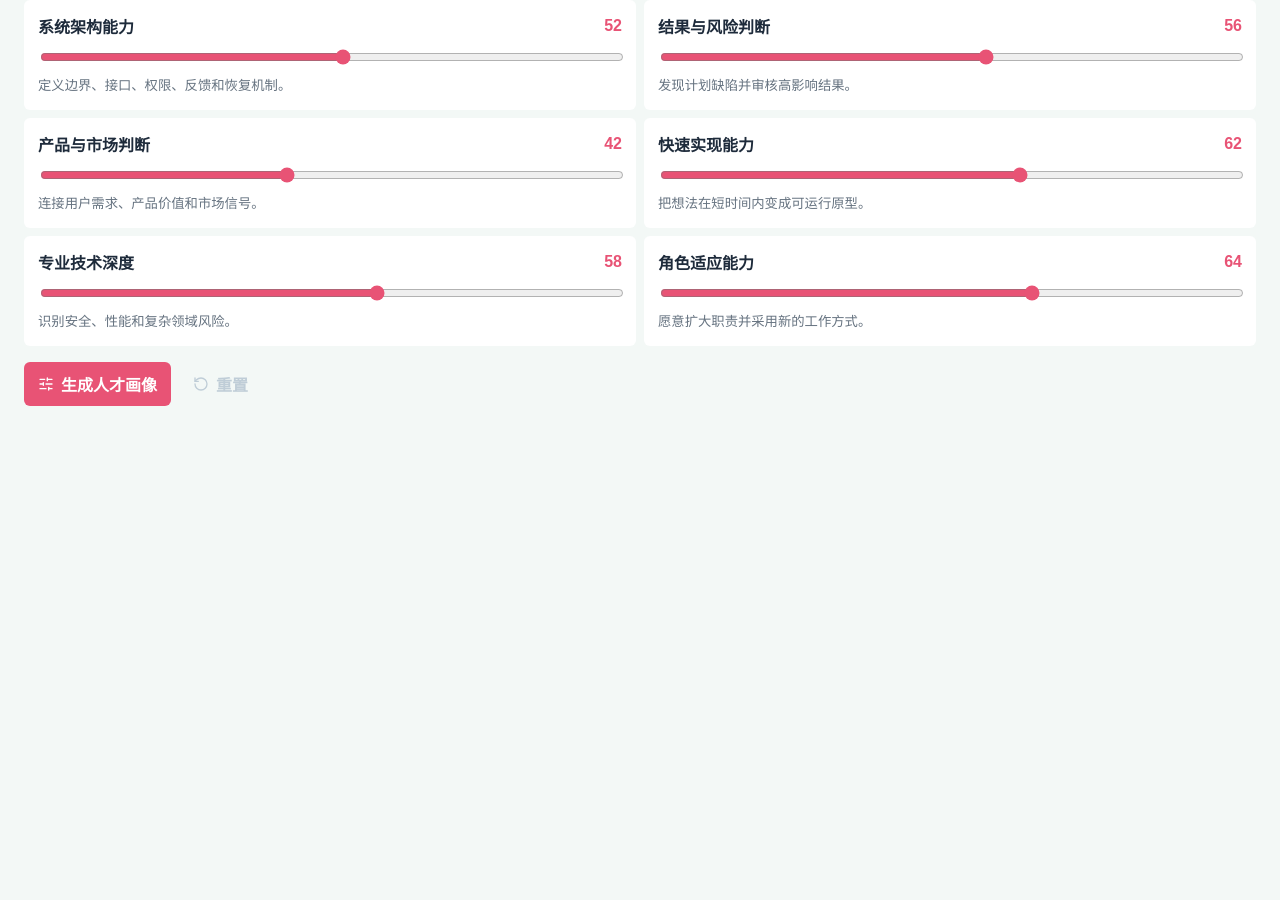
Scenario: TalentMixer › builds a cross-functional architect profile without dismissing senior expertise
The width and height of the screenshot is (1280, 900).
Set the slider named "系统架构能力" to "88" at (548, 57), box [40,49,624,65]
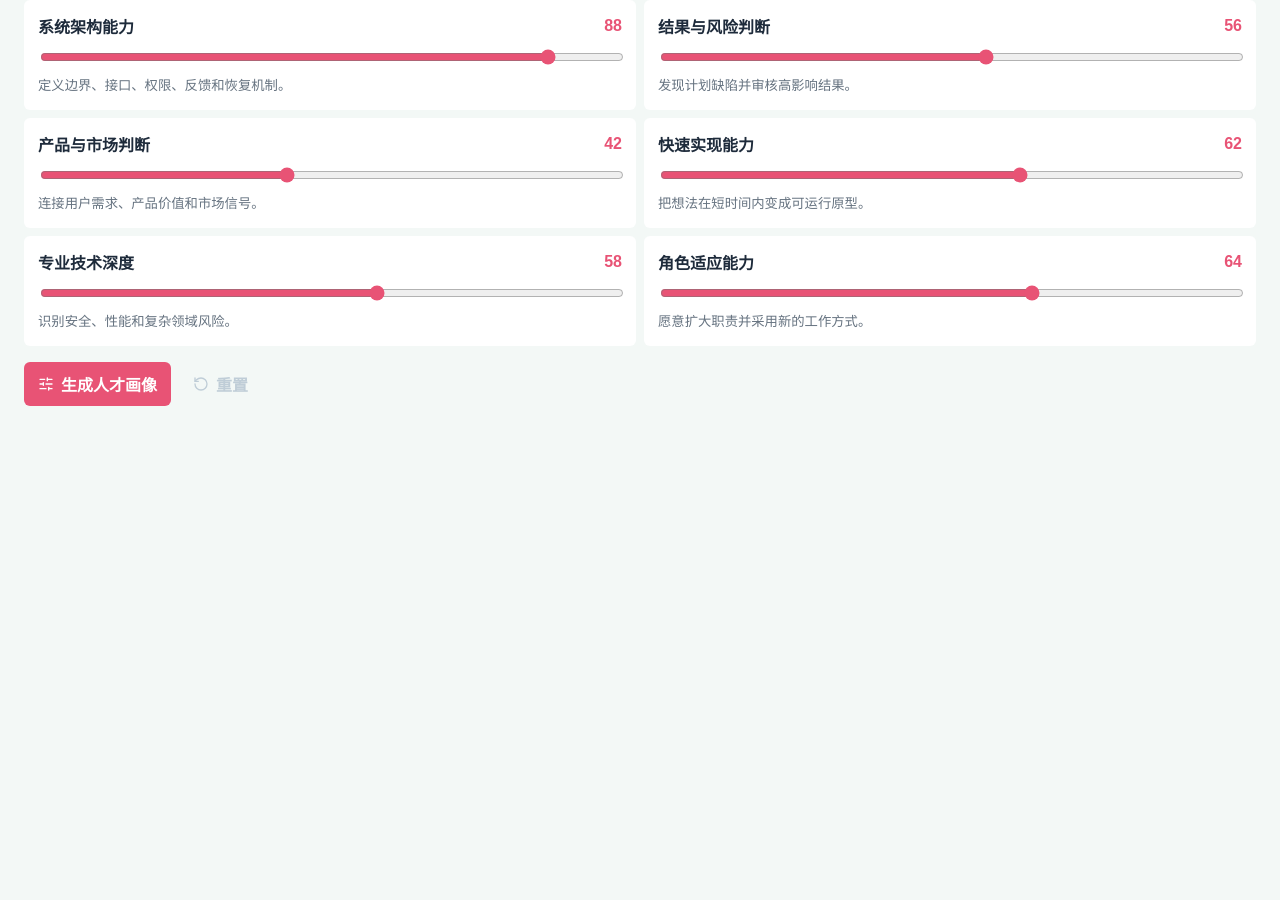
Set the slider named "产品与市场判断" to "82" at (514, 175), box [40,167,624,183]
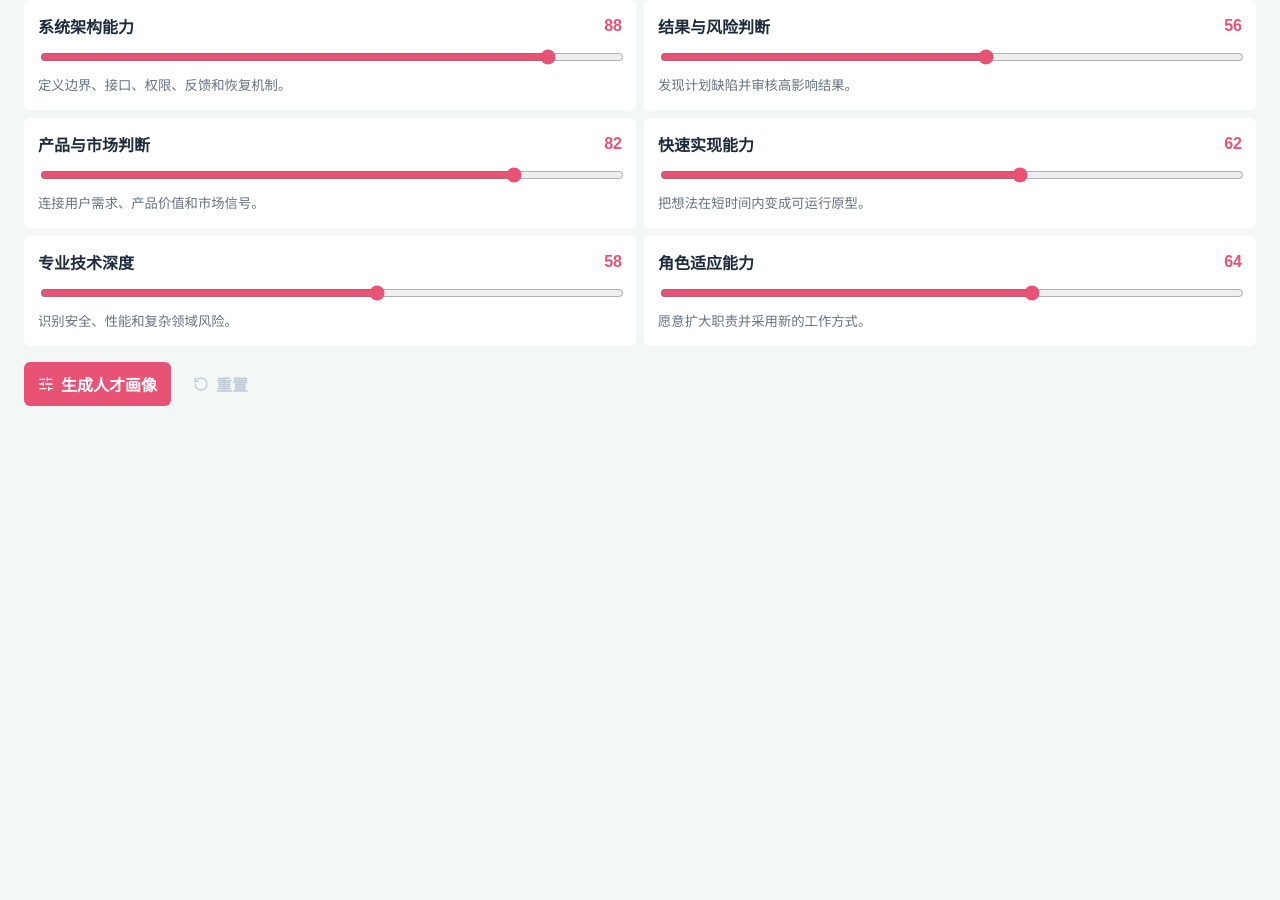
Set the slider named "专业技术深度" to "76" at (480, 293), box [40,285,624,301]
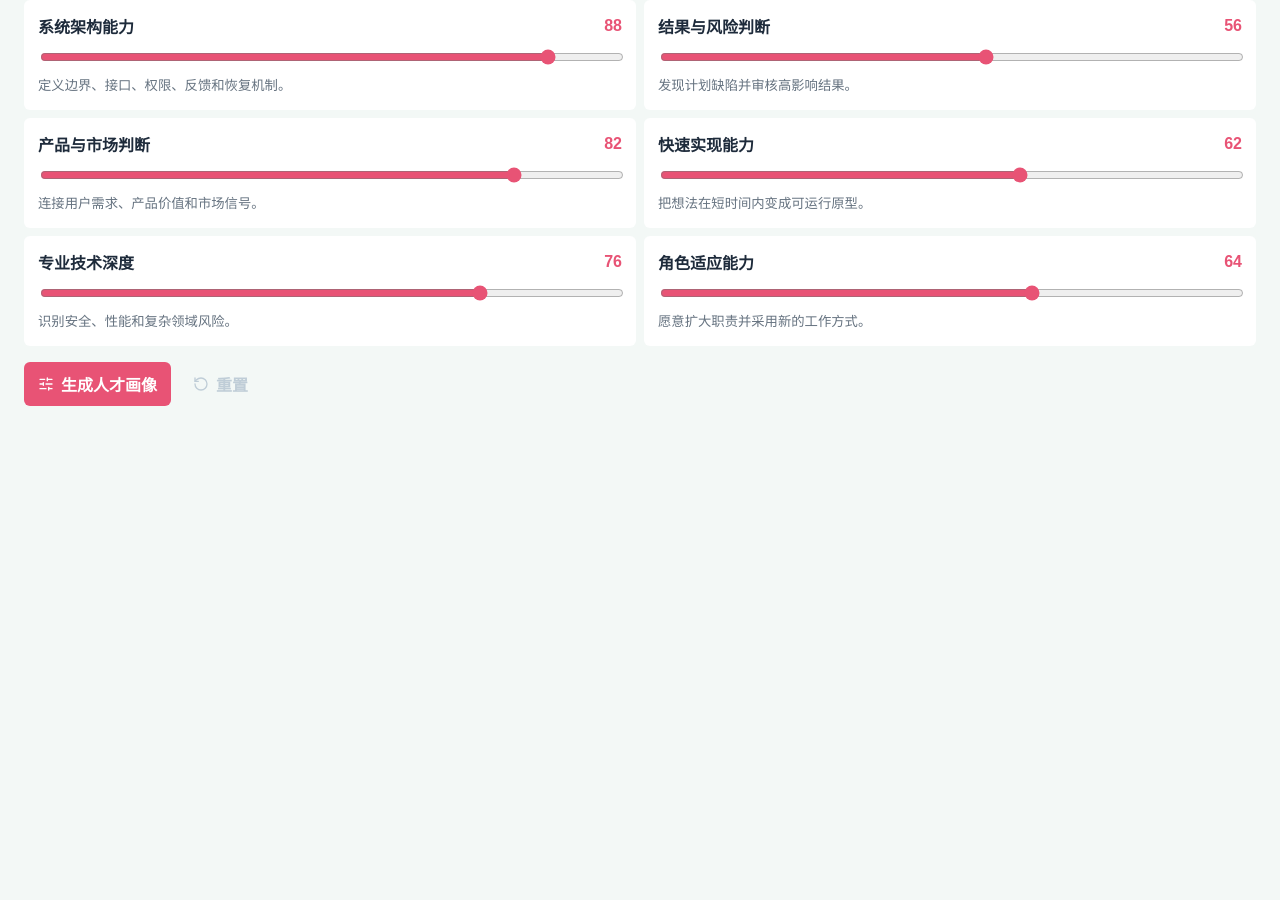
Click the button "生成人才画像" at (98, 384), box [24,362,171,406]
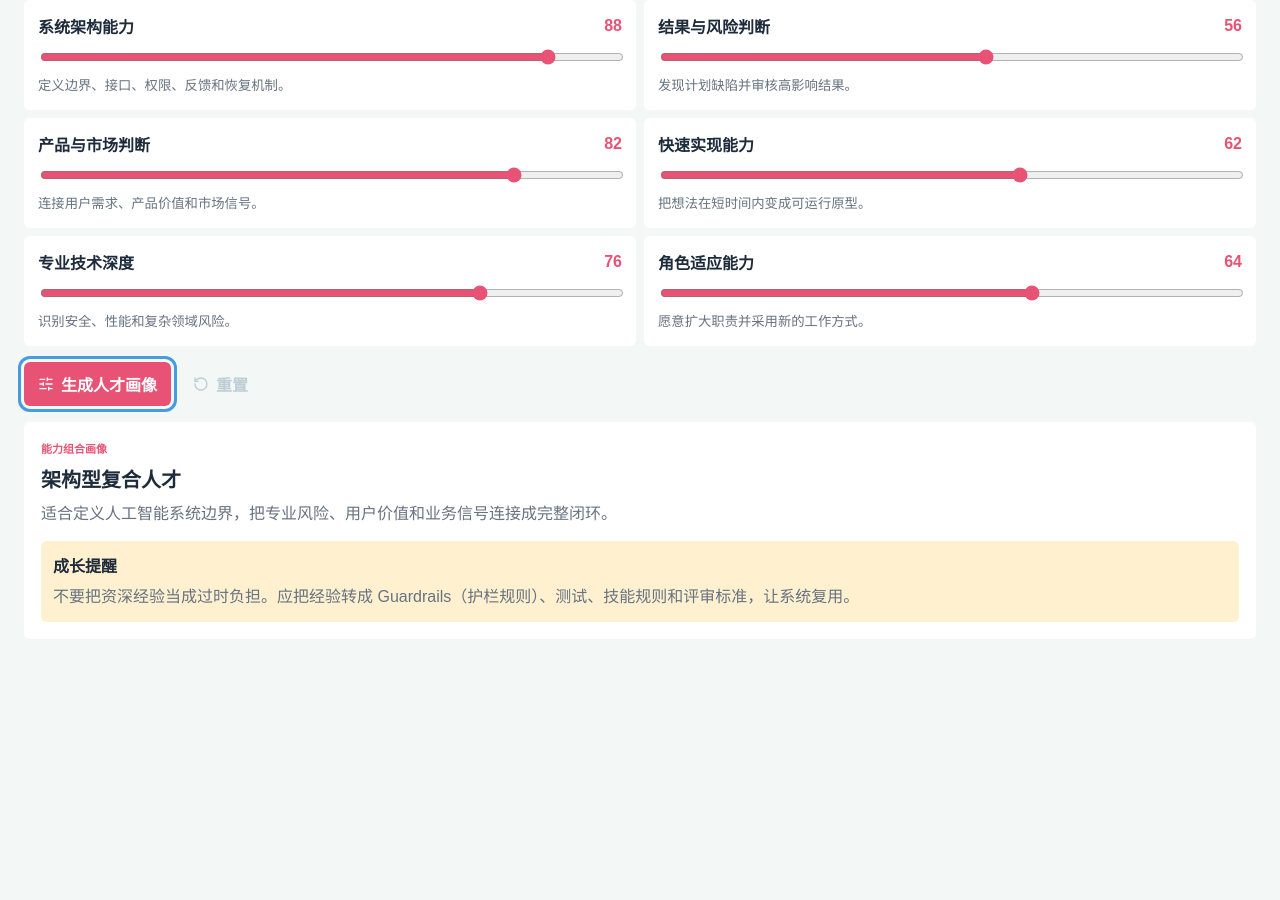
Expected: the button with aria-label "重置人才混合器" is shown, [179,362,262,406]
Expected: the heading "架构型复合人才" is shown, [41,469,181,491]
Expected: the text "不要把资深经验当成过时负担" is shown, [53,588,859,605]
